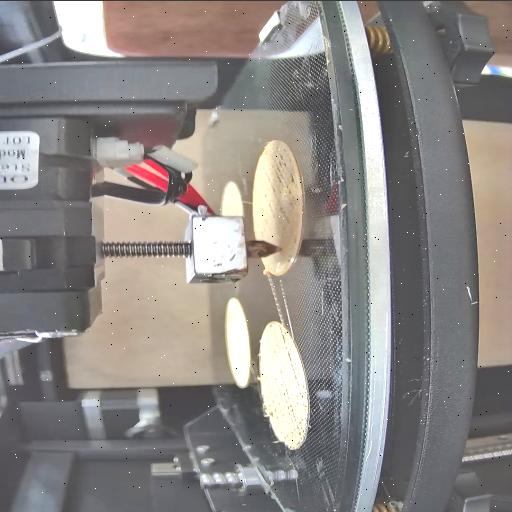under_extrusion: (264, 350, 304, 444), (252, 150, 296, 224), (280, 236, 302, 264), (274, 325, 294, 347)
